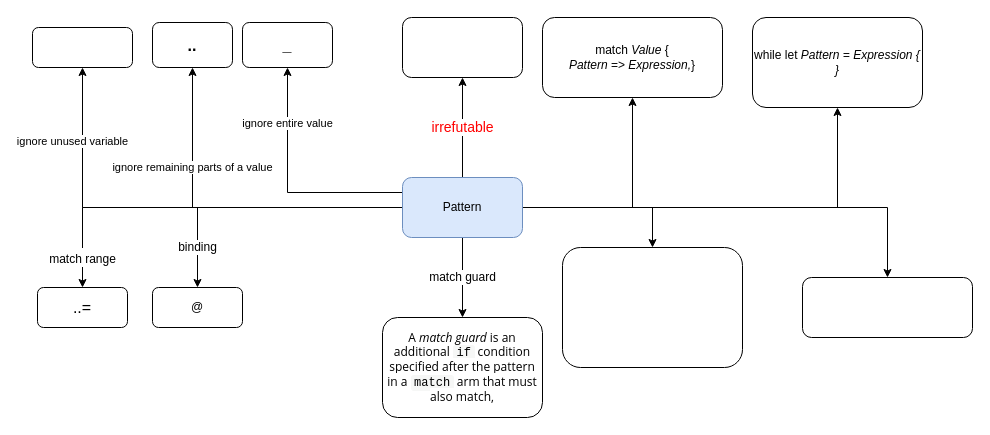
Some shapes in this 990 by 435 pixel diagram are drawn without their labels. The shapes that lost their labels are listed below. From the top down, each one's box as (x1, y1, x2, y2) in pixels, then its label:
(32, 26, 132, 68): _ name
(402, 16, 522, 78): let Pattern = Expression ;
(562, 246, 742, 368): if let Pattern = Expression else if let Pattern = Expression else if .. else ..
(802, 276, 972, 338): for Pattern in Expression
